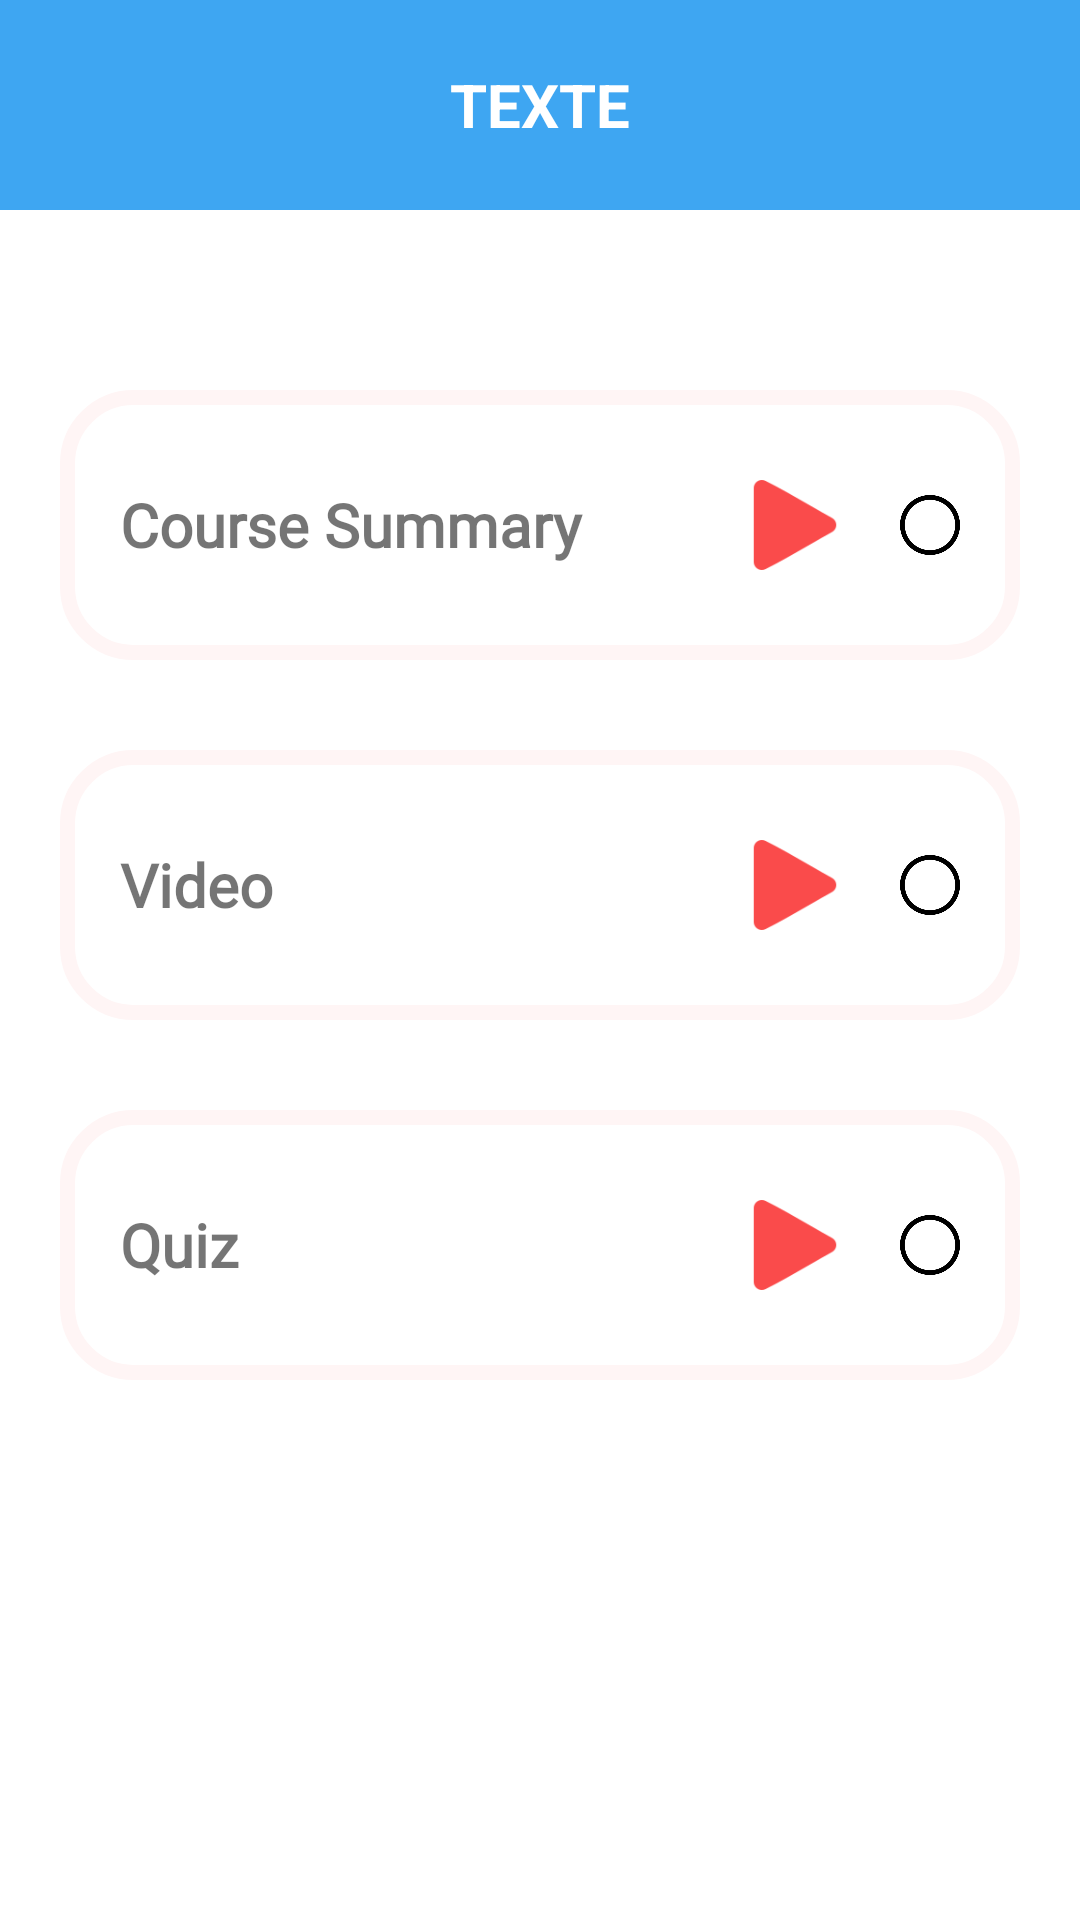

Icons on this 1080x1920 Android screen, each with its box as {"left": x1, "top": y1, "right": x2, "bottom": y2}:
unchecked: {"left": 900, "top": 495, "right": 960, "bottom": 555}, {"left": 900, "top": 855, "right": 960, "bottom": 915}, {"left": 900, "top": 1215, "right": 960, "bottom": 1275}
